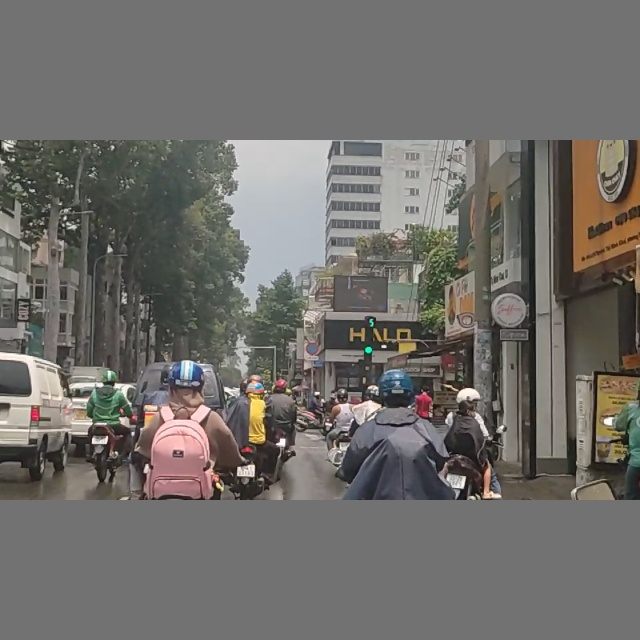P.131a: (305, 341, 321, 356)
